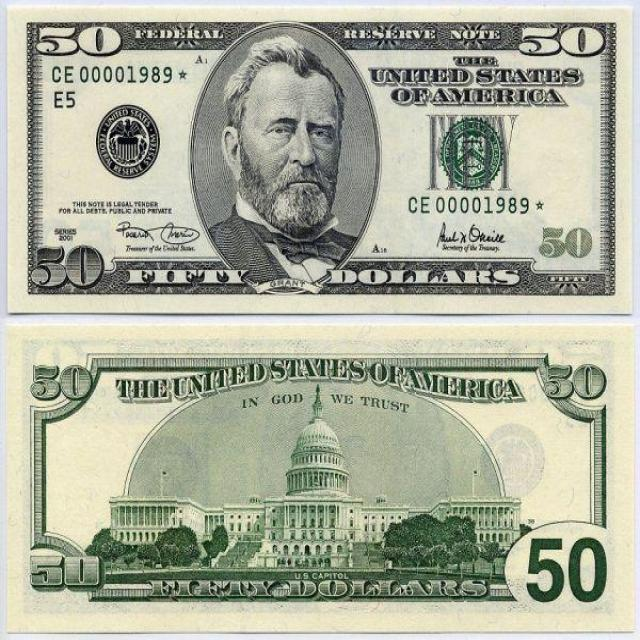50-Back: (8, 325, 632, 634)
50-Front: (8, 2, 632, 316)
